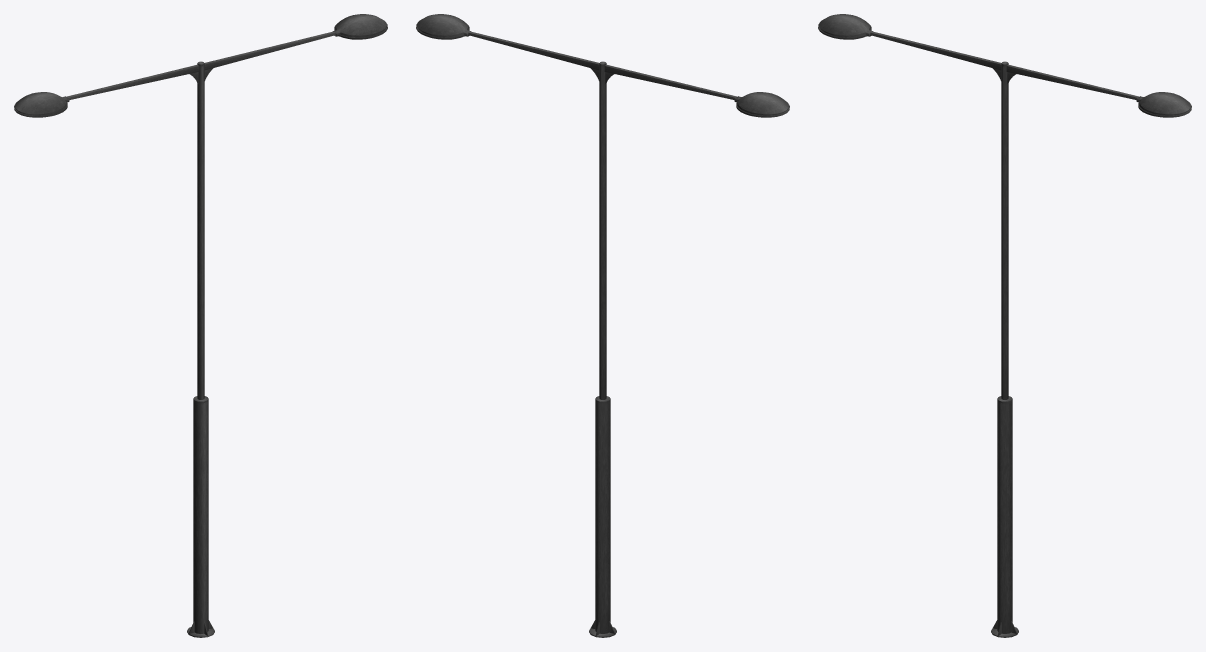
The picture shows the model from 3 angles, left to right: view 1: azimuth 30°, elevation 25°; view 2: azimuth 150°, elevation 25°; view 3: azimuth 330°, elevation 25°; orthographic projection.
Parts seen in each view (by area): view 1: MainBuilding; view 2: MainBuilding; view 3: MainBuilding.
Boxes of the visible parts, x1,y1,x2,y2 form: MainBuilding: (14,14,387,637); MainBuilding: (416,14,789,637); MainBuilding: (818,14,1191,637).
Size of the model in its own units: 6.03 by 9.01 by 0.6866.
1 material, 1 textured.
